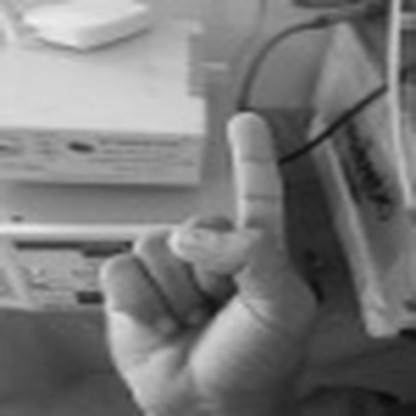d: (97, 101, 295, 413)
